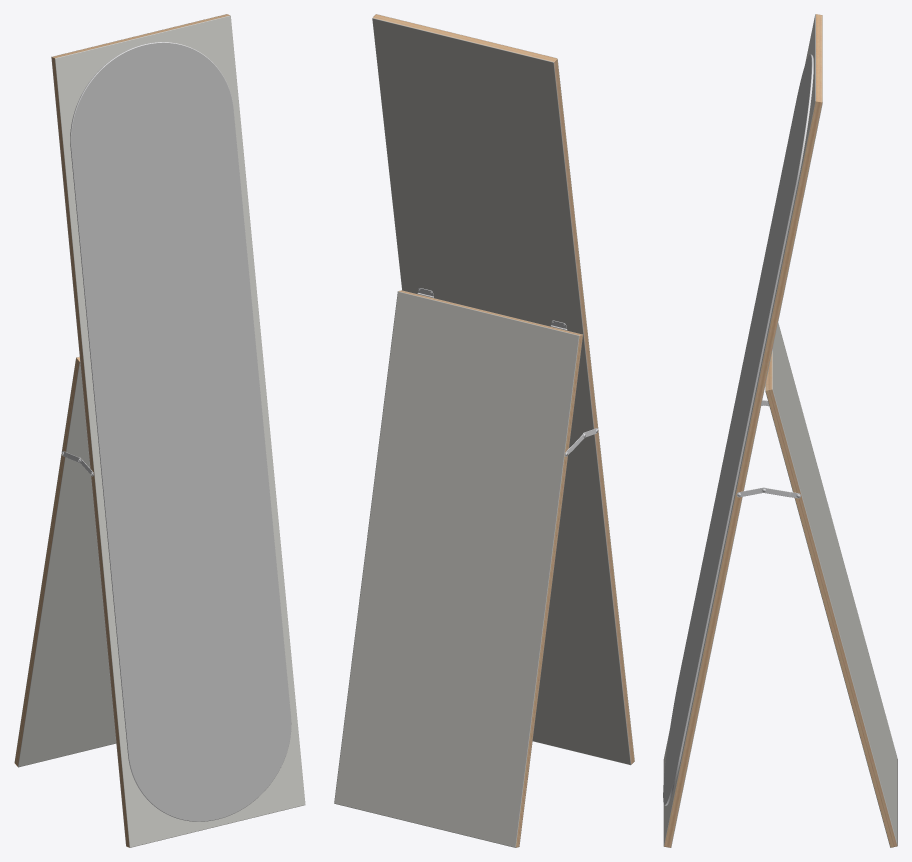
Rendered from mirror58260.glb.
The picture shows the model from 3 angles, left to right: view 1: azimuth 30°, elevation 25°; view 2: azimuth 150°, elevation 25°; view 3: azimuth 270°, elevation 25°; orthographic projection. The views are drawn at different scales.
Visible parts, largest first — view 1: mirror58260; view 2: mirror58260; view 3: mirror58260.
Part boxes in pixels (<box>): mirror58260: <box>14,14,305,847</box>; mirror58260: <box>334,14,634,847</box>; mirror58260: <box>663,14,897,847</box>.
Size of the model in its own units: 0.4 by 1.58 by 0.45.
1 material, 1 textured.
